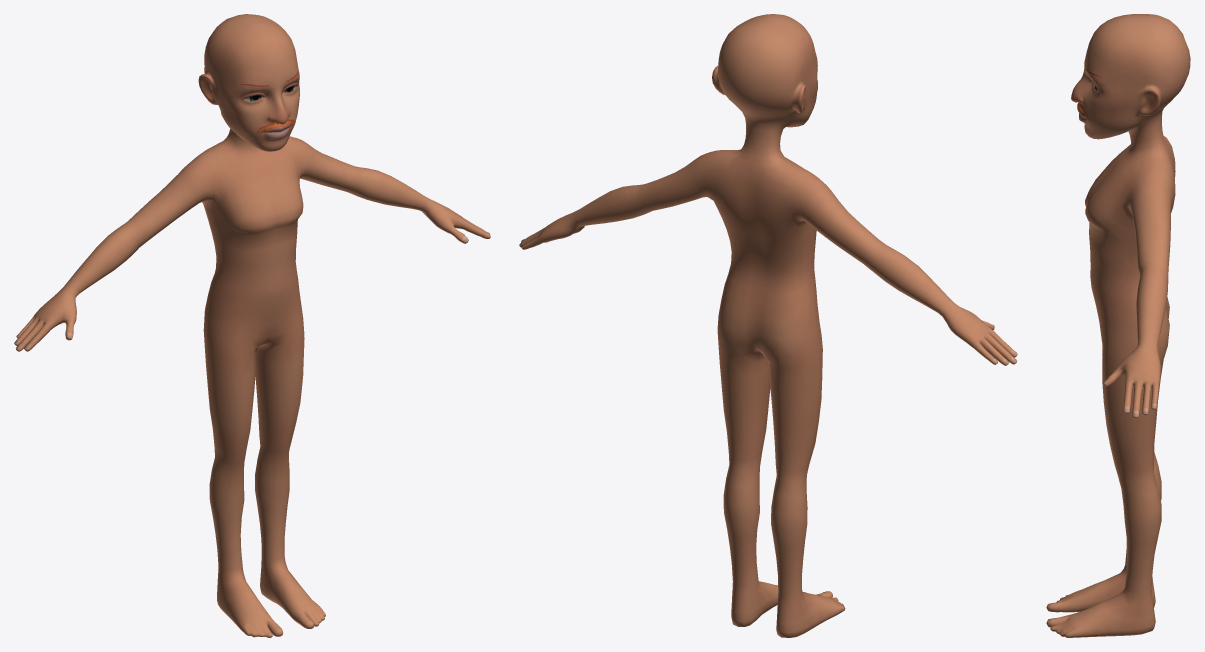
The model's file is frame_0087.glb.
3 views of the same model, side by side, from view 1: azimuth 30°, elevation 25°; view 2: azimuth 150°, elevation 25°; view 3: azimuth 270°, elevation 25° (orthographic). The views are drawn at different scales.
Parts seen in each view (by area): view 1: frame_0087_head_geo; view 2: frame_0087_head_geo; view 3: frame_0087_head_geo.
Boxes of the visible parts, left/top/right/bottom form: frame_0087_head_geo: left=14, top=14, right=490, bottom=637; frame_0087_head_geo: left=519, top=14, right=1017, bottom=637; frame_0087_head_geo: left=1046, top=14, right=1190, bottom=637.
Size of the model in its own units: 1.28 by 1.5 by 0.3253.
Materials: 3 (3 with a texture image).
